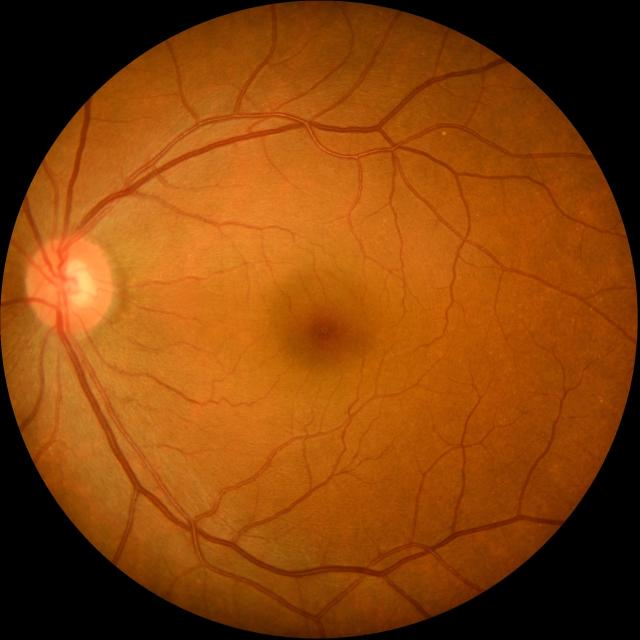OC: (51, 261, 96, 310)
OD: (25, 234, 112, 334)
